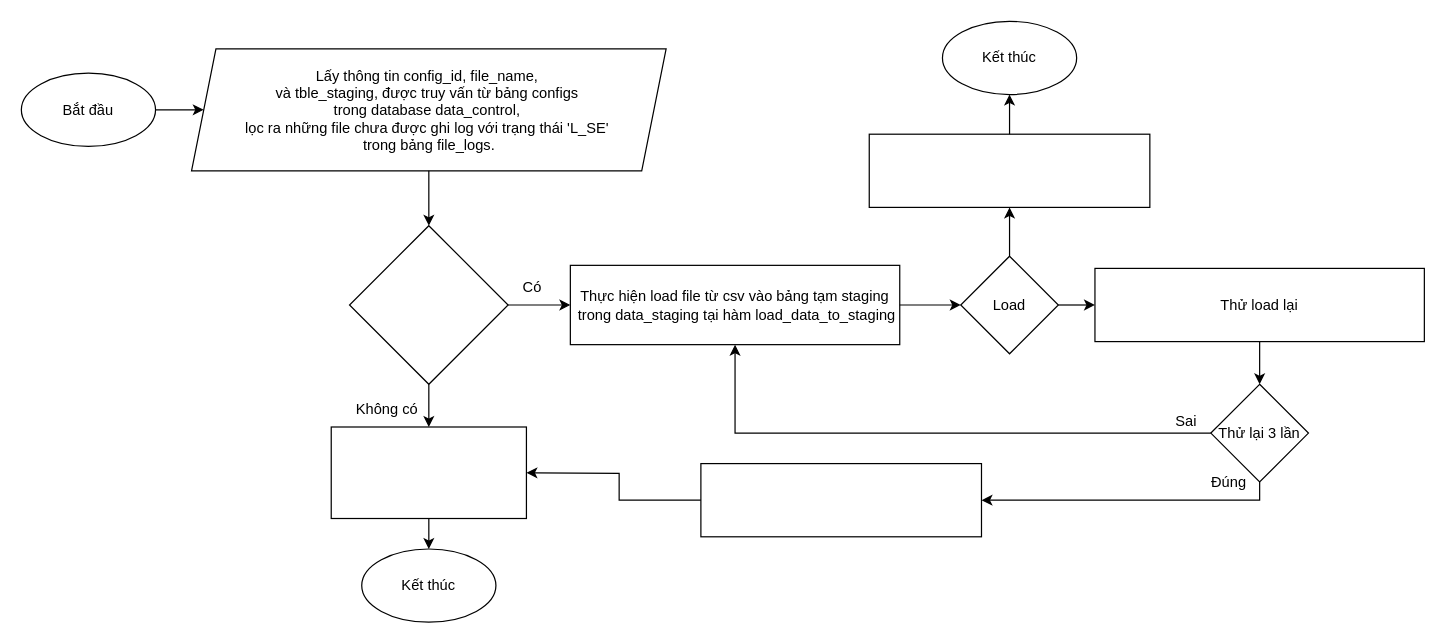
The diagram is 1446 pixels wide and 644 high, and some of its shapes have lost their labels. The centre of each missing label's shape, as x and y in pixels:
"Dữ liệu lấy được" belongs at point (428, 304).
"Ghi lại log trên bảng files_config với thạng thái L_FE trong bảng data_control" belongs at point (840, 499).
"Ghi lại log trên bảng files_config với thạng thái L_SE trong bảng data_control" belongs at point (1009, 170).
"Gửi email thông báo đến admin" belongs at point (428, 472).
